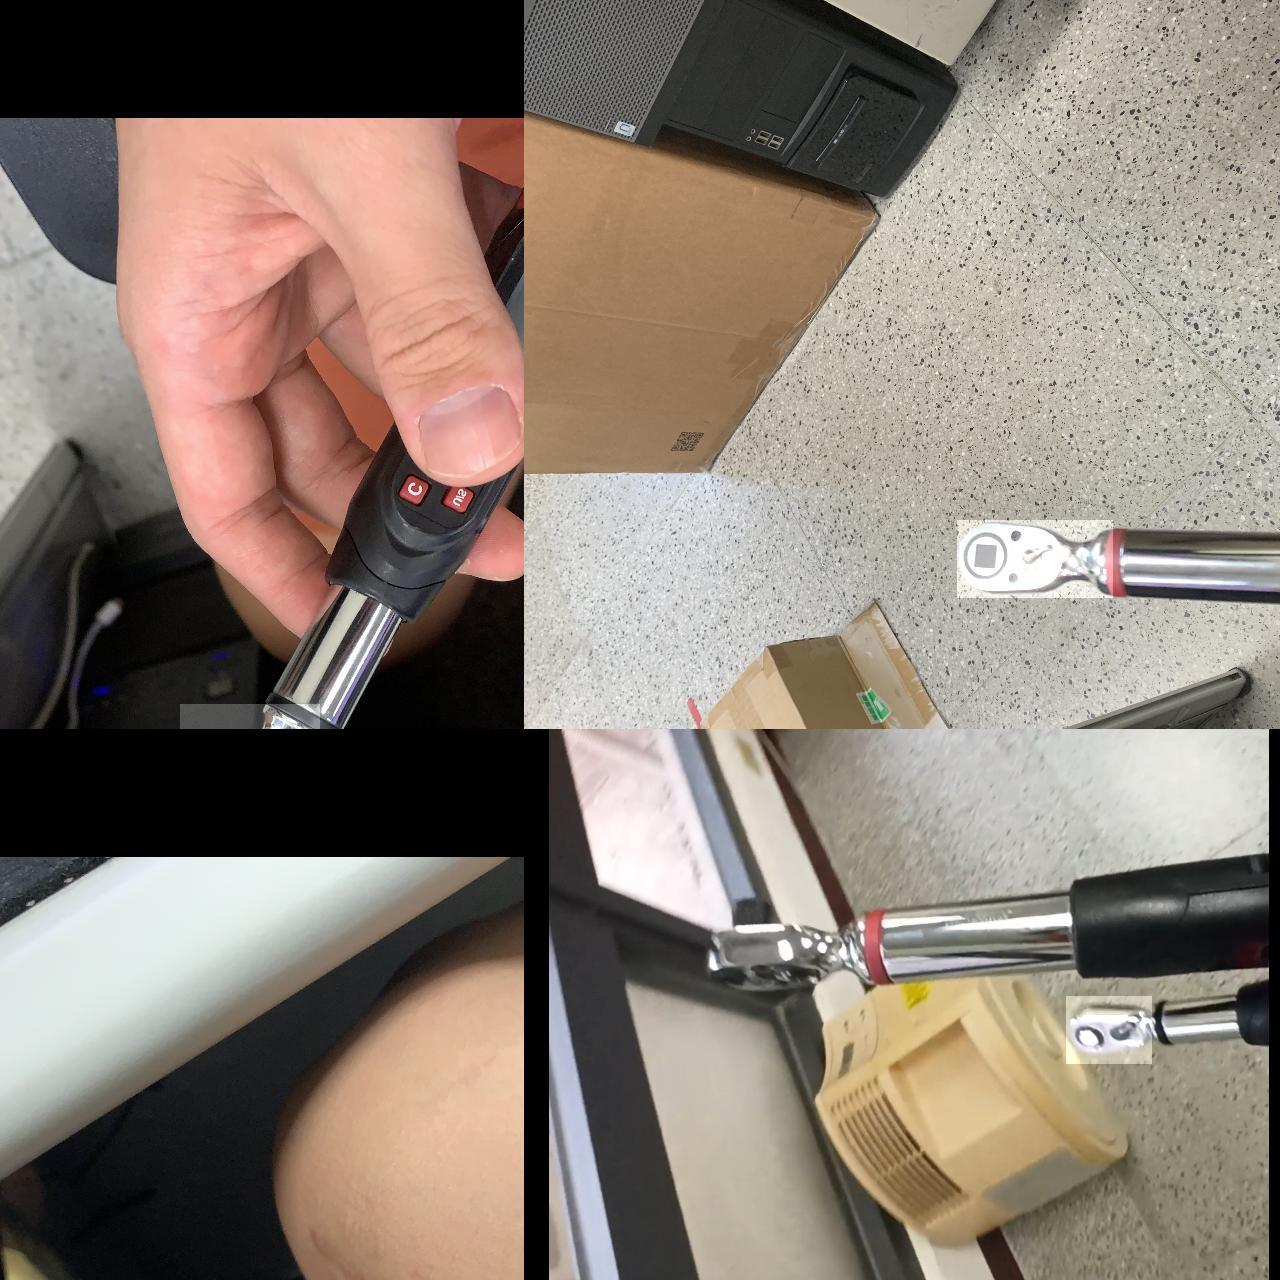Tool: (708, 898, 862, 1002), (956, 519, 1114, 597), (1065, 995, 1152, 1063)
